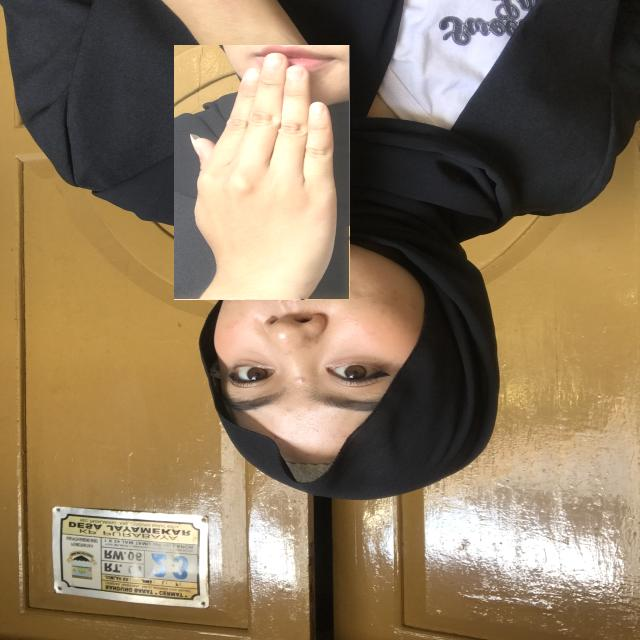ganteng: (174, 45, 350, 300)
